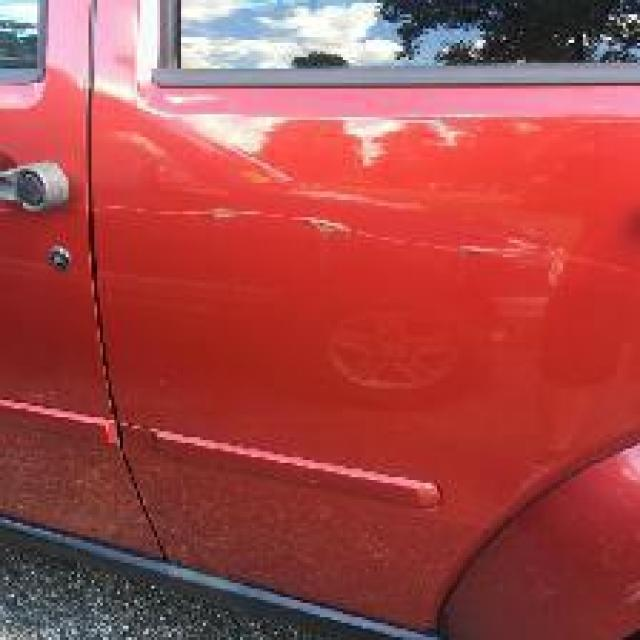damaged: (85, 195, 578, 292)
